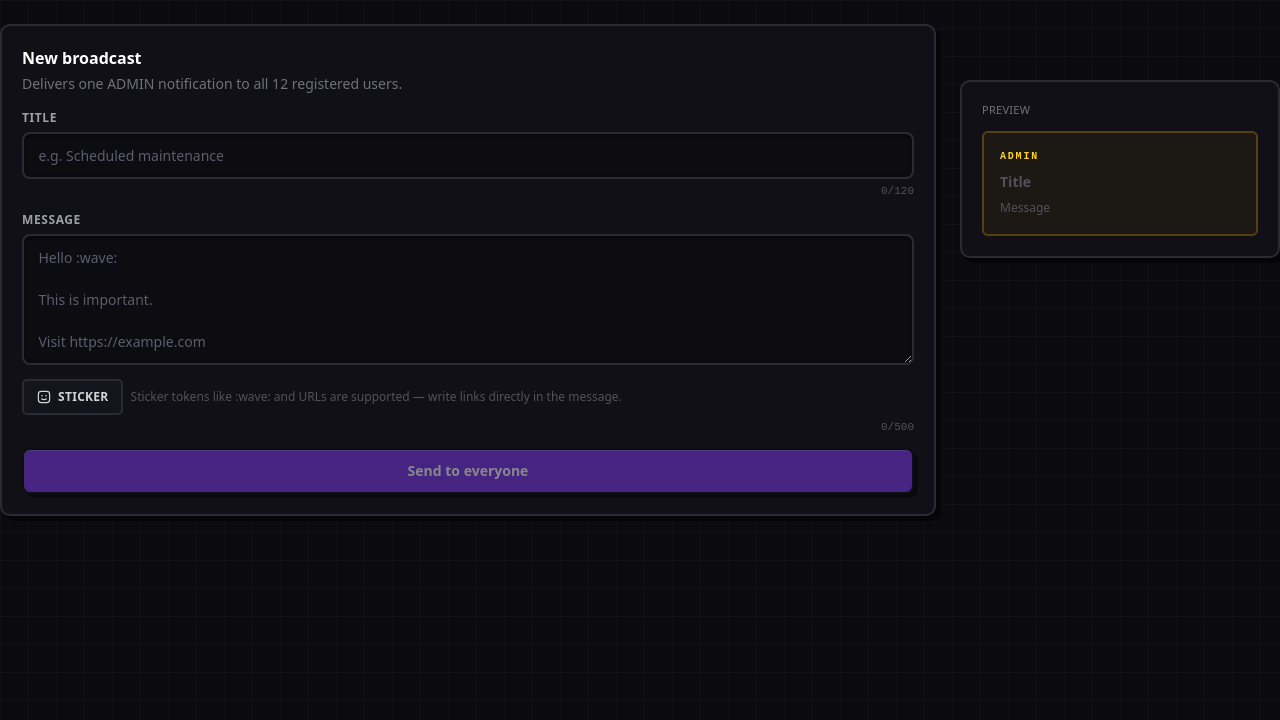
Admin Broadcast — Sticker picker open/close › closes when the Sticker button is clicked again
The width and height of the screenshot is (1280, 720).
What coordinates should you click on to do the following:
click the button "Sticker"
I would click on:
 (72, 397)
Its box is [22,379,123,415].
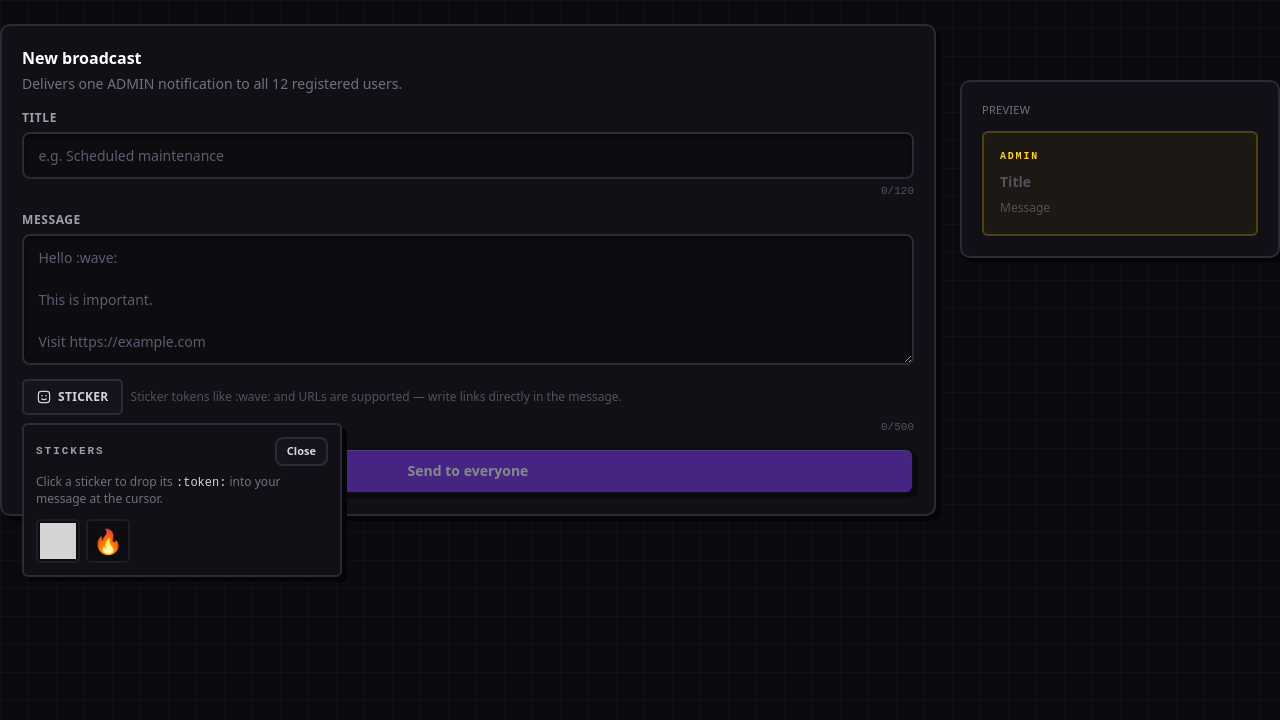
Check: the dialog with id "broadcast-sticker-picker" is shown, box [22,423,342,577]
What coordinates should you click on to do the following:
click the button "Sticker"
I would click on:
 (72, 397)
Its box is [22,379,123,415].
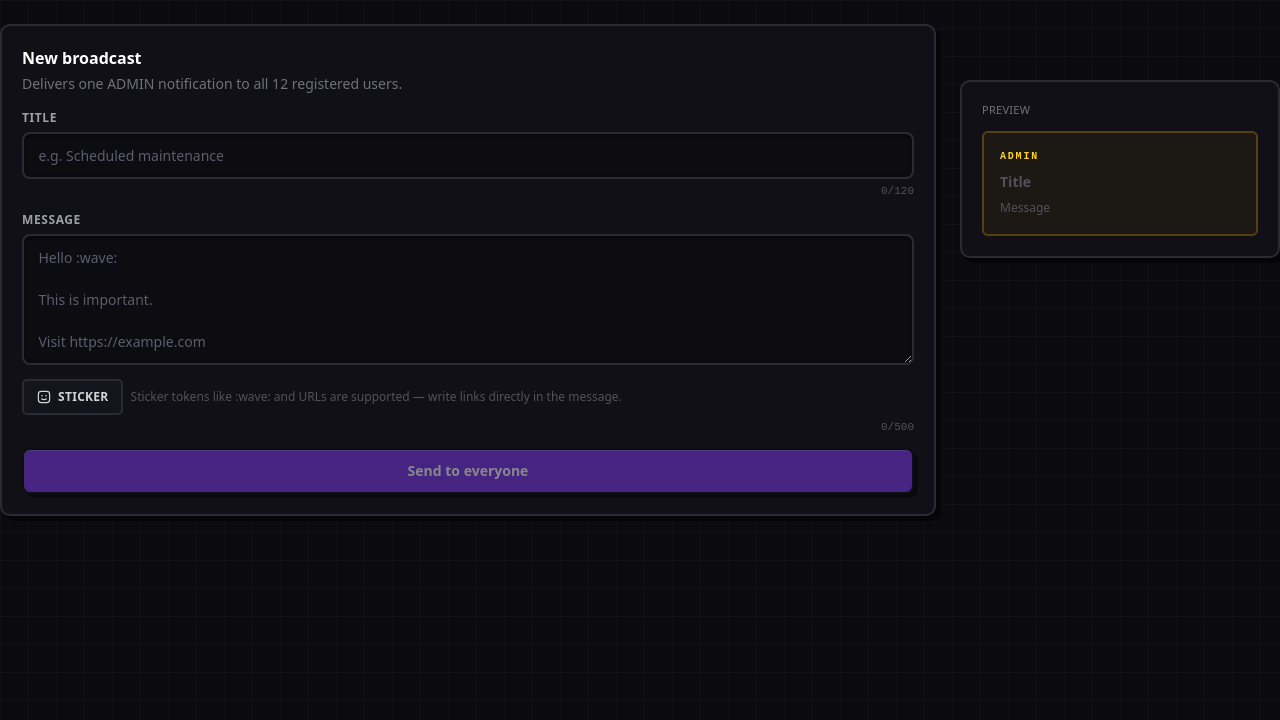
Check: the dialog with id "broadcast-sticker-picker" is gone
